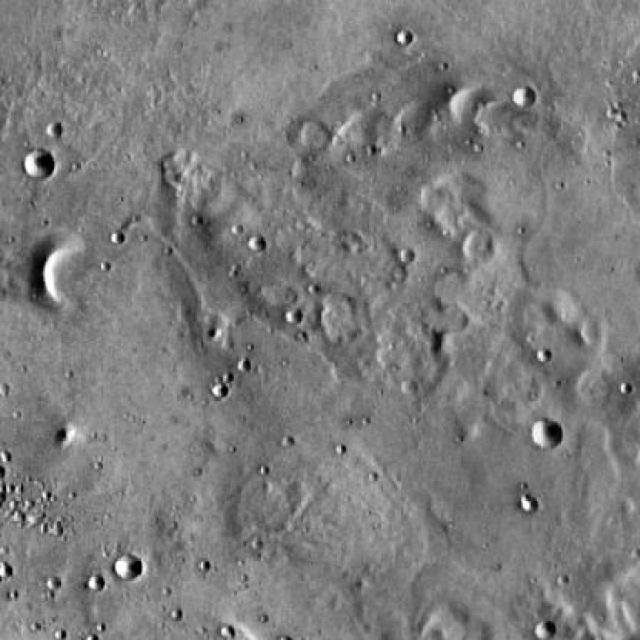crater: (34, 237, 108, 308), (21, 148, 54, 180), (532, 422, 562, 450), (112, 553, 140, 581), (514, 84, 538, 108), (536, 622, 556, 640), (247, 235, 265, 252), (285, 308, 304, 324), (520, 495, 538, 511), (88, 576, 104, 593), (46, 122, 62, 138)
